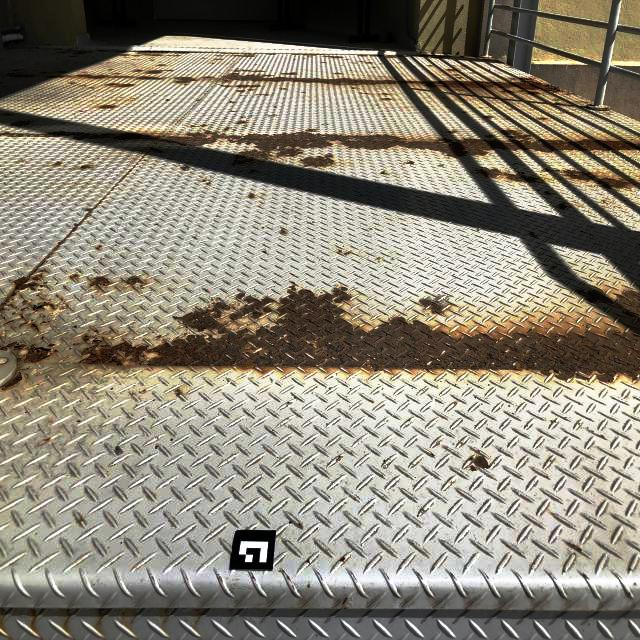Corrosion: (80, 285, 640, 381), (0, 128, 640, 164), (220, 71, 561, 95), (476, 166, 538, 185), (0, 341, 51, 363), (11, 270, 44, 295), (302, 153, 334, 167), (420, 298, 444, 315), (561, 169, 596, 180), (599, 177, 634, 188), (0, 372, 21, 390), (471, 454, 490, 471), (74, 74, 133, 79), (88, 276, 110, 289), (29, 300, 54, 311), (0, 293, 14, 312), (124, 275, 144, 287), (175, 77, 197, 86), (7, 72, 35, 78), (9, 121, 30, 128), (106, 83, 135, 88), (231, 68, 266, 72), (568, 542, 581, 552), (369, 55, 409, 58), (235, 84, 261, 88), (137, 76, 163, 80), (28, 322, 38, 332), (557, 202, 569, 210), (137, 51, 169, 54), (131, 54, 162, 57), (40, 318, 53, 325), (72, 221, 82, 230), (45, 75, 73, 78), (68, 273, 78, 281), (323, 55, 343, 59), (99, 104, 115, 109), (146, 70, 164, 74), (341, 597, 348, 607), (233, 54, 256, 57), (279, 227, 288, 234), (174, 388, 181, 397), (46, 342, 56, 348), (452, 56, 478, 58), (247, 192, 255, 198), (339, 556, 347, 562), (281, 72, 296, 75), (76, 51, 87, 55), (80, 165, 91, 169), (537, 117, 551, 120), (483, 115, 492, 119), (202, 76, 214, 79), (298, 522, 303, 529), (96, 244, 103, 249), (357, 54, 368, 57), (541, 167, 549, 171), (448, 130, 456, 134), (447, 68, 457, 71), (220, 84, 230, 87), (85, 208, 92, 212), (381, 98, 390, 101), (134, 69, 143, 72), (176, 52, 189, 54), (566, 92, 574, 95), (256, 94, 268, 96), (55, 161, 61, 165), (44, 438, 50, 442), (407, 161, 414, 164), (481, 58, 488, 61), (305, 559, 310, 563), (338, 249, 343, 253), (235, 90, 245, 92), (120, 54, 130, 56), (555, 169, 561, 172), (555, 102, 561, 105), (382, 92, 388, 95), (334, 72, 343, 74), (345, 251, 349, 255), (158, 64, 166, 66), (60, 71, 68, 73), (79, 517, 83, 521), (456, 77, 463, 79), (248, 89, 255, 91), (215, 58, 222, 60), (173, 55, 180, 57), (381, 171, 385, 174), (554, 99, 560, 101), (453, 74, 459, 76), (366, 62, 372, 64), (560, 90, 565, 92), (267, 54, 277, 55), (40, 72, 49, 73), (165, 70, 173, 71), (113, 73, 121, 74), (445, 106, 448, 108), (321, 62, 327, 63), (427, 65, 432, 66), (461, 65, 466, 66), (372, 67, 376, 68)
